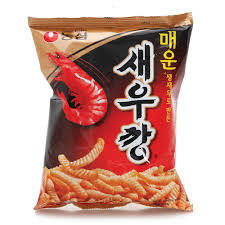snack1: (24, 11, 198, 219)
